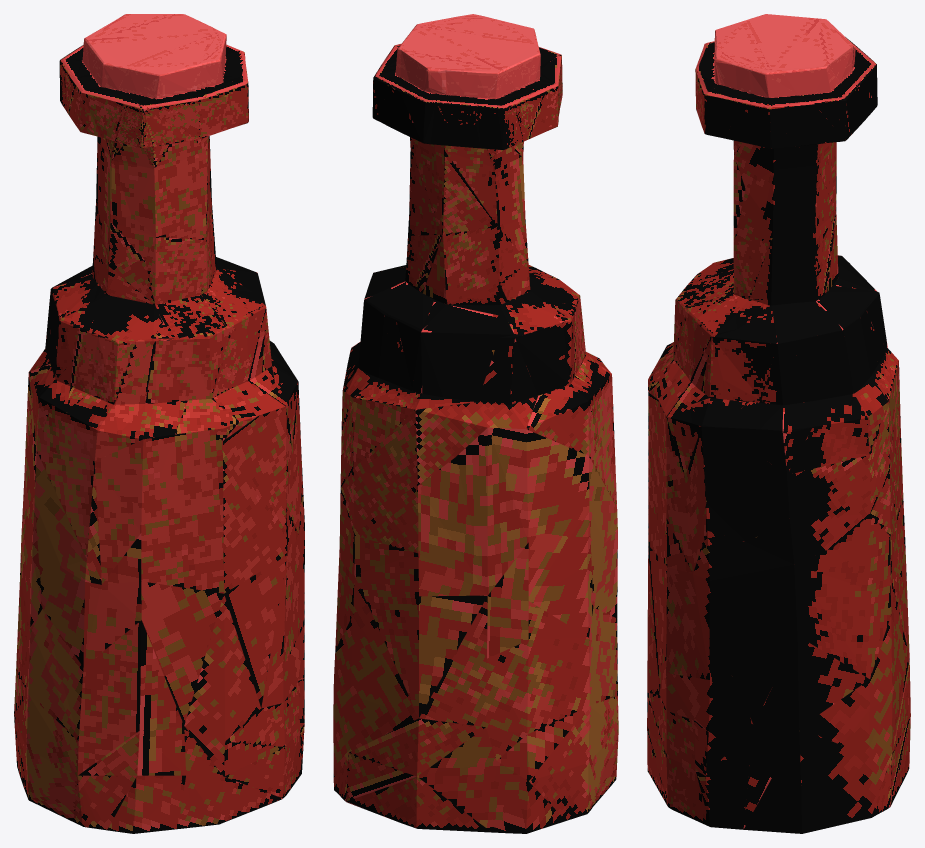
3 views of the same model, side by side, from view 1: azimuth 30°, elevation 25°; view 2: azimuth 150°, elevation 25°; view 3: azimuth 270°, elevation 25° (orthographic).
Parts seen in each view (by area): view 1: OBJ0bf; view 2: OBJ0bf; view 3: OBJ0bf.
Part boxes in pixels (left/top/right/bottom): OBJ0bf: left=14, top=14, right=304, bottom=833; OBJ0bf: left=333, top=14, right=618, bottom=833; OBJ0bf: left=647, top=14, right=910, bottom=833.
Size of the model in its own units: 0.126 by 0.3556 by 0.1161.
1 material, 1 textured.
